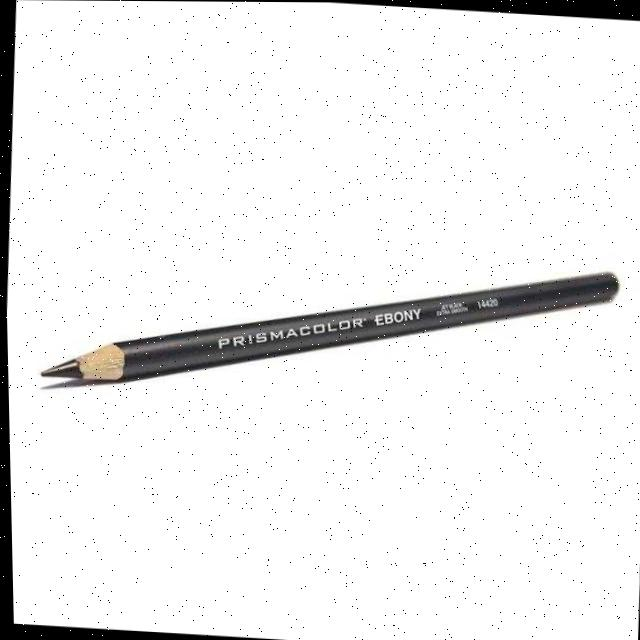pencil: (7, 231, 640, 412)
